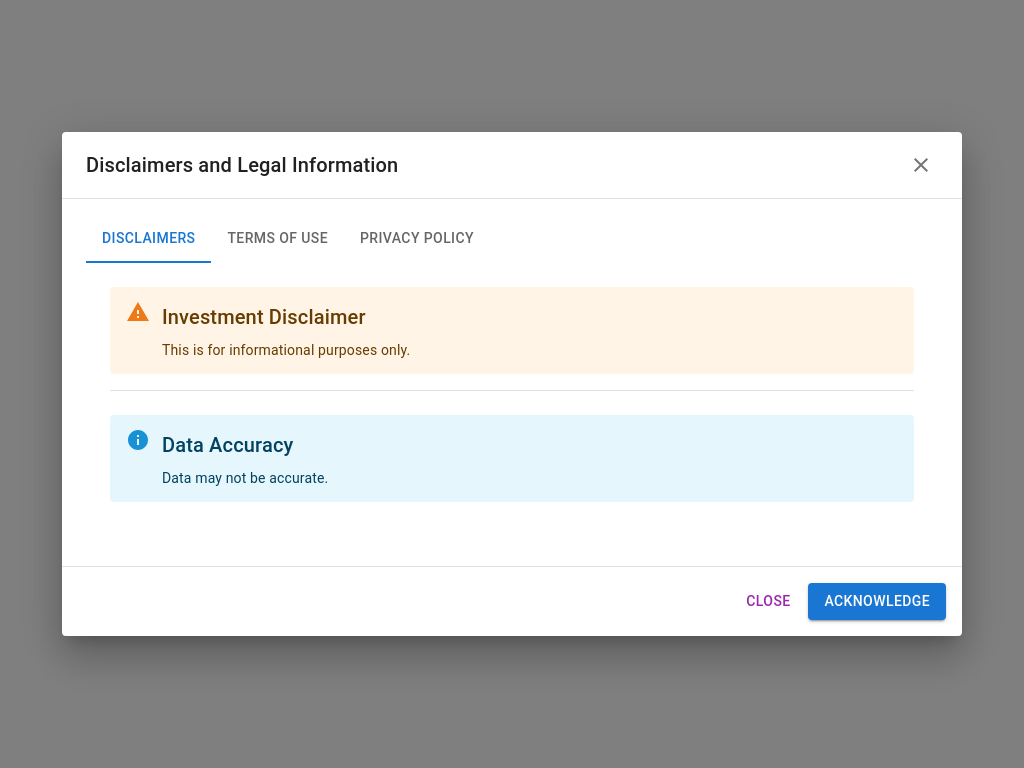
Scenario: DisclaimerModal › should switch between tabs correctly
// Click on Terms of Use tab
Click the tab "Terms of Use": click(278, 239) [212,215,344,263]
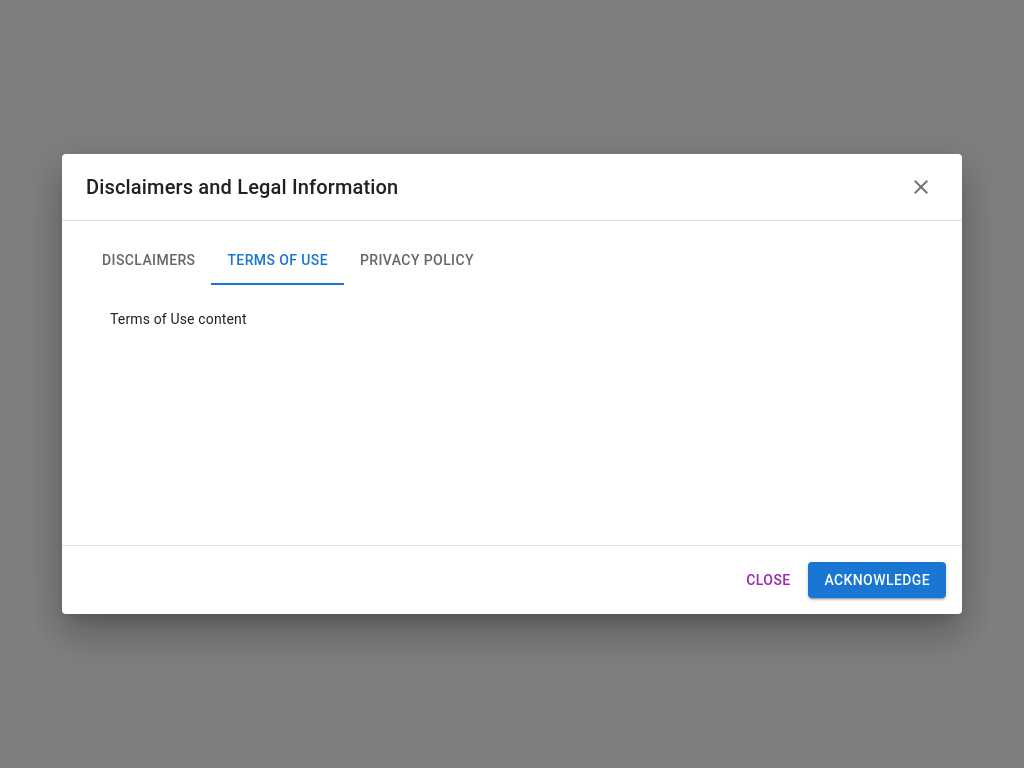
Expected: the text "Terms of Use content" is shown, [110,311,247,327]
// Click on Privacy Policy tab
Click the tab "Privacy Policy": click(417, 261) [344,237,490,285]
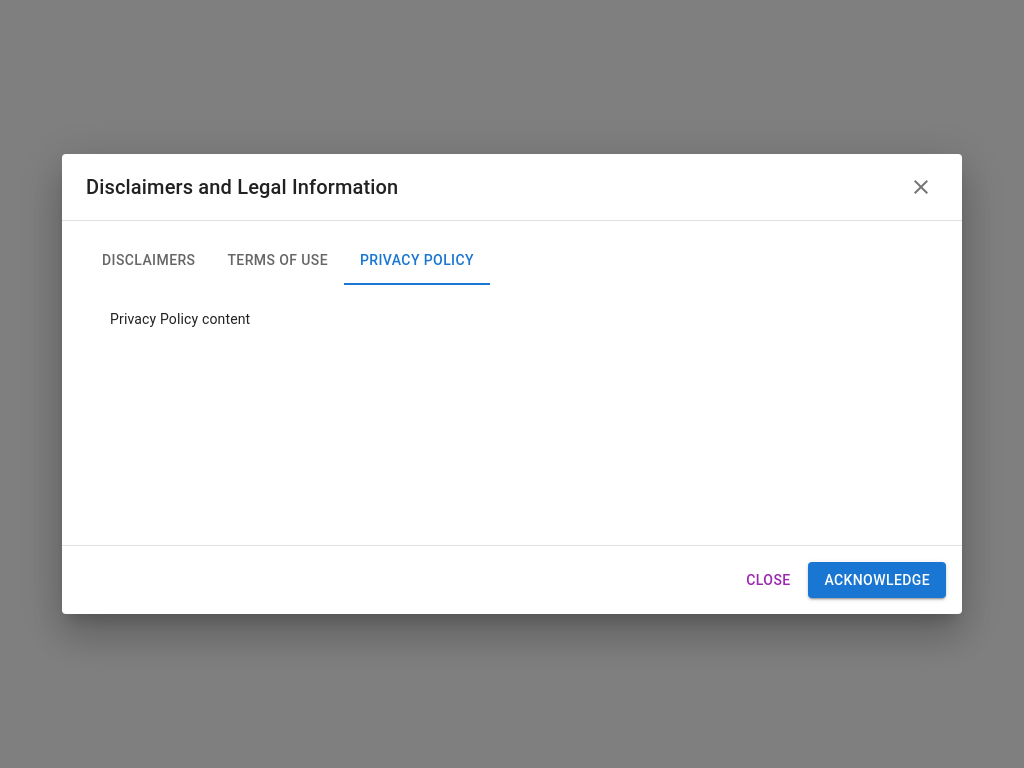
Expected: the text "Privacy Policy content" is shown, [110,311,250,327]
